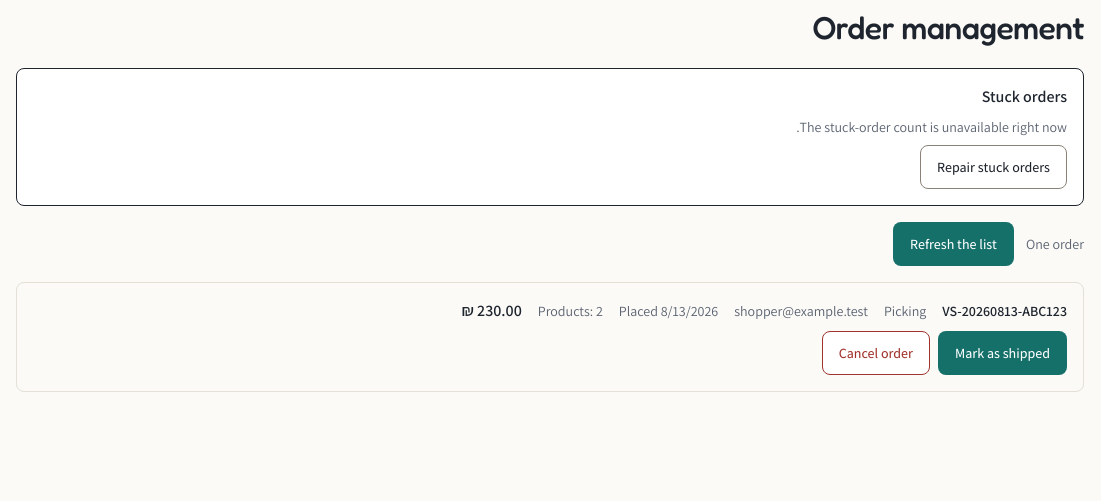
it: moving an order › ISSUE-103 — shipping asks for a tracking number › does NOT send the PATCH on the first click — it opens the tracking question
This screenshot has width=1101, height=501.
Click the button "Mark as shipped" at (1002, 353), box [938,331,1067,375]
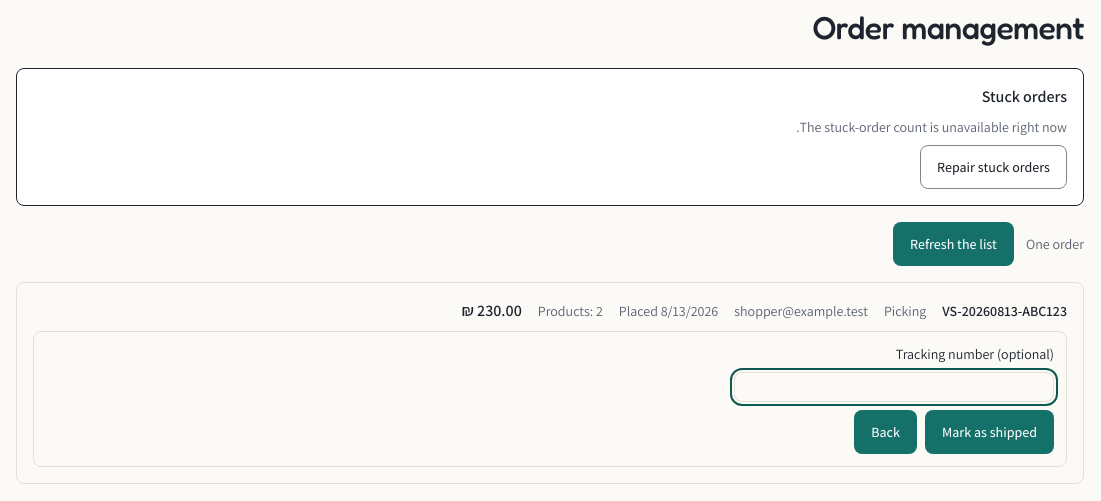
Check: the field labelled "Tracking number (optional)" is shown, box [734,372,1054,402]
